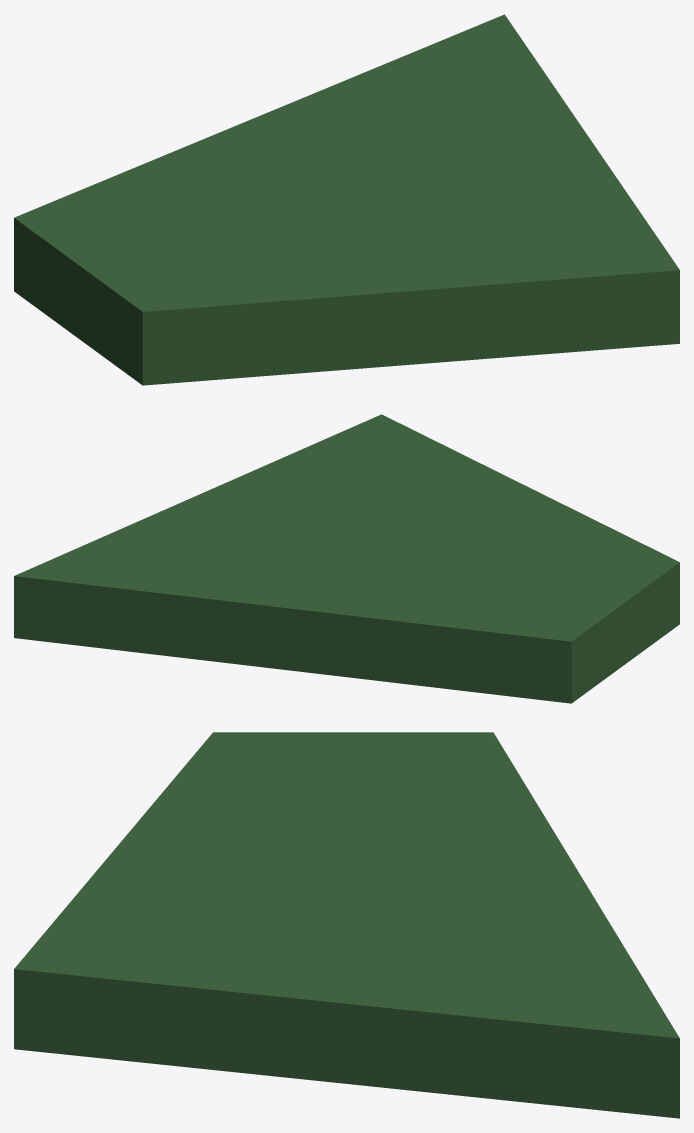
The model's file is x_proval_00_182_1_rmstrd.fbx.
3 renders of one model, top to bottom at view 1: azimuth 30°, elevation 25°; view 2: azimuth 150°, elevation 25°; view 3: azimuth 270°, elevation 25°, orthographic. The views are drawn at different scales.
Parts seen in each view (by area): view 1: x_proval_00_182_1_rmstrd1; view 2: x_proval_00_182_1_rmstrd1; view 3: x_proval_00_182_1_rmstrd1.
Boxes of the visible parts, x1,y1,x2,y2 form: x_proval_00_182_1_rmstrd1: (14,14,679,385); x_proval_00_182_1_rmstrd1: (14,414,679,703); x_proval_00_182_1_rmstrd1: (14,732,679,1118).
Bounding box in the file's own units: 1.64 × 0.2 × 1.51.
